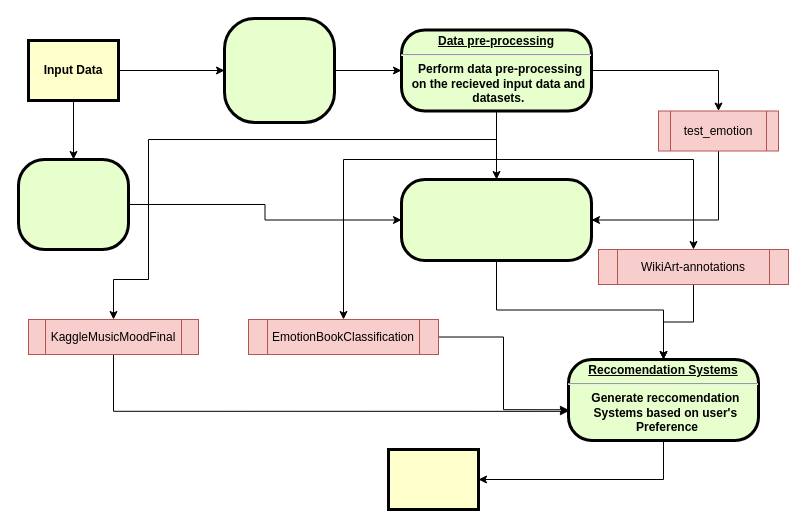
The diagram is 806 pixels wide and 528 high, and some of its shapes have lost their labels. The shapes that lost their labels are listed below. From the top down, each one's centre as x and y in pixels, then its label:
(x=279, y=70): Input Give input by uploading a text file exporting from whatsapp
(x=73, y=204): Input Give input by Typing the input in the prompt
(x=496, y=220): Emotion/Mood Detection Analyse the emotion using TextBlob
(x=433, y=479): Output Data
